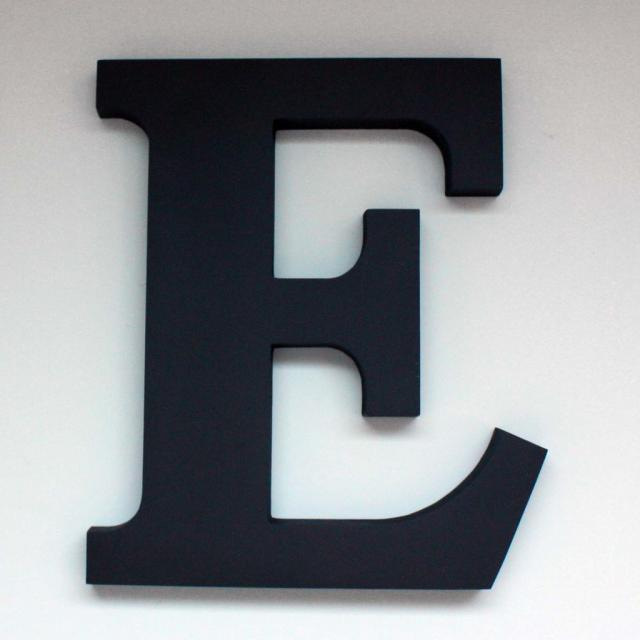E: (71, 21, 550, 616)
